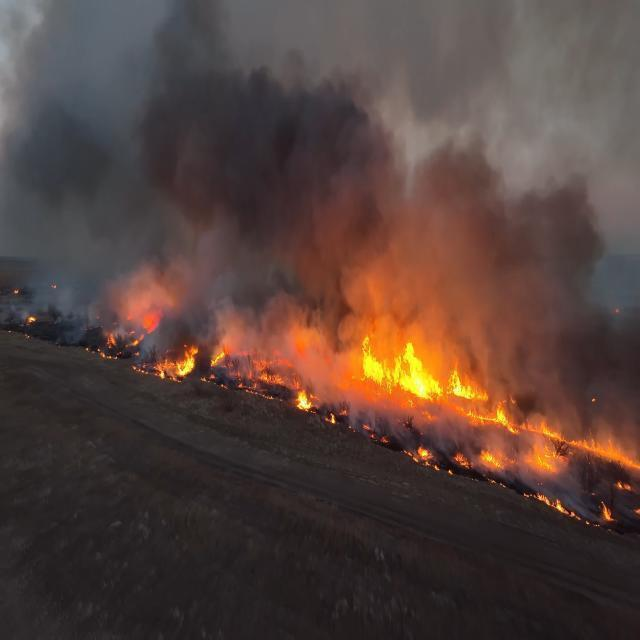Smoke: (158, 8, 379, 260), (354, 132, 542, 323), (486, 169, 605, 351), (358, 335, 432, 393)
